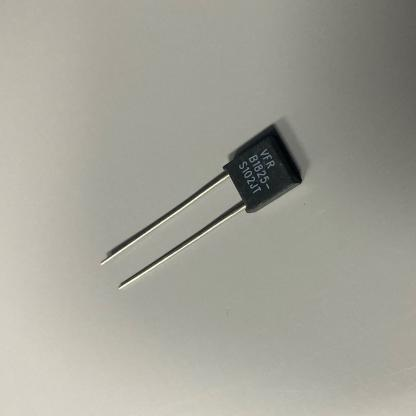SP0000007: (51, 96, 331, 318)
